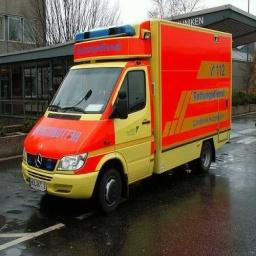Ambulance: (22, 20, 231, 211)
